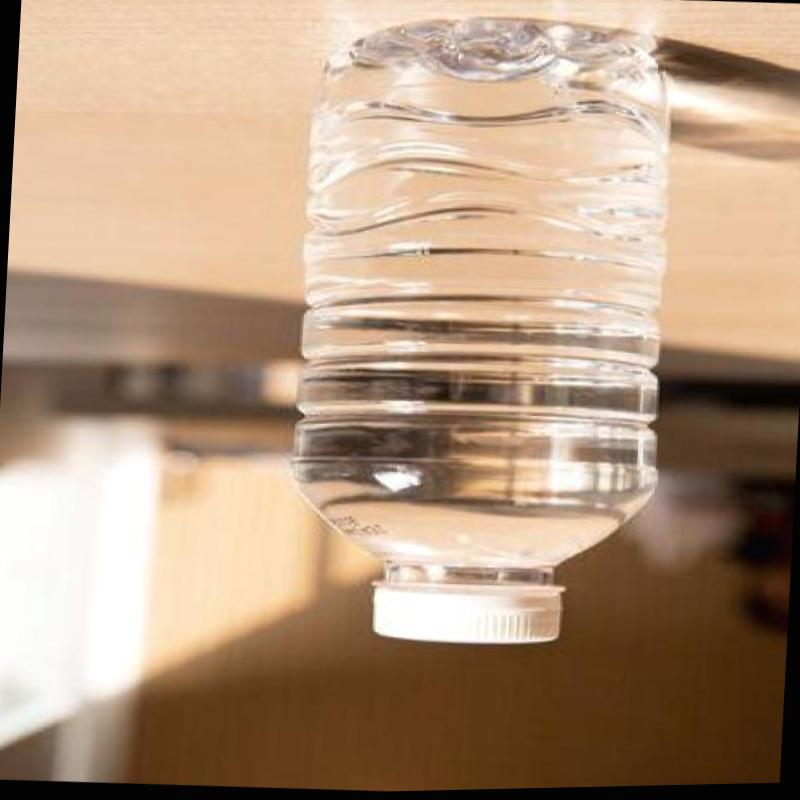botella: (277, 1, 679, 661)
